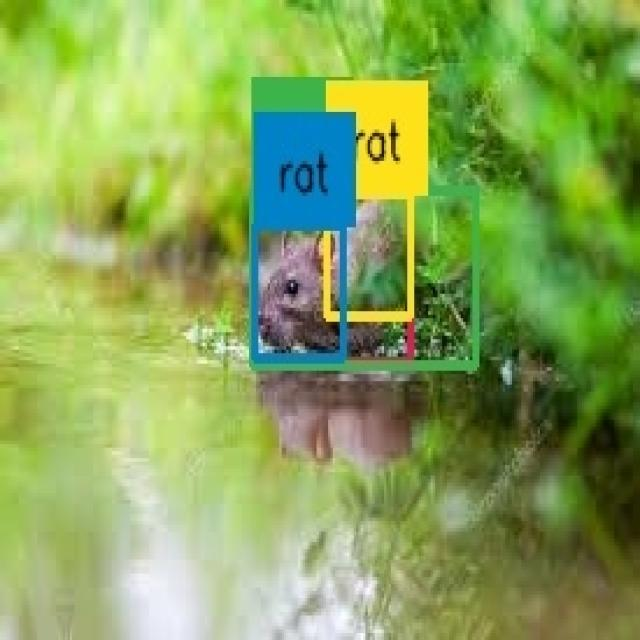rat: (253, 190, 474, 366), (252, 191, 411, 362), (254, 225, 342, 358), (327, 194, 411, 317)
